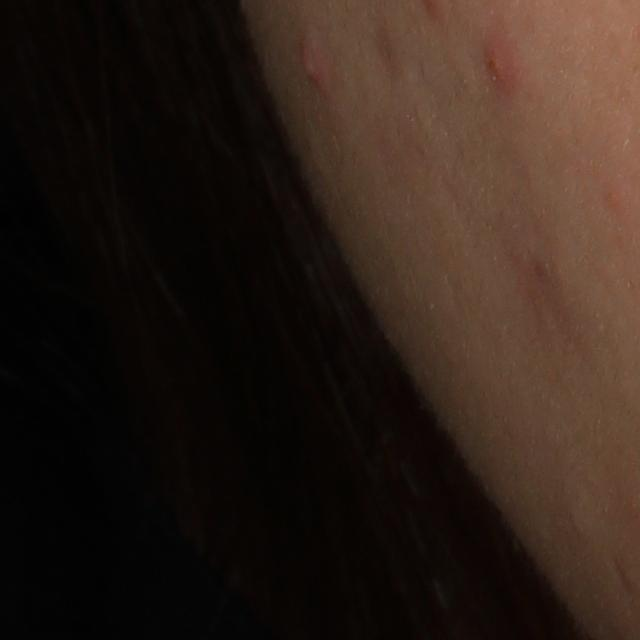papule: (476, 31, 521, 100), (296, 40, 336, 93), (602, 180, 627, 207)
